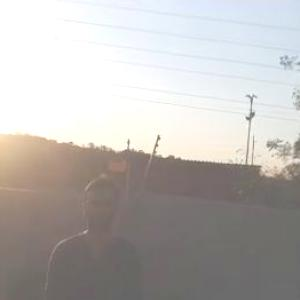follow: (38, 169, 153, 299)
